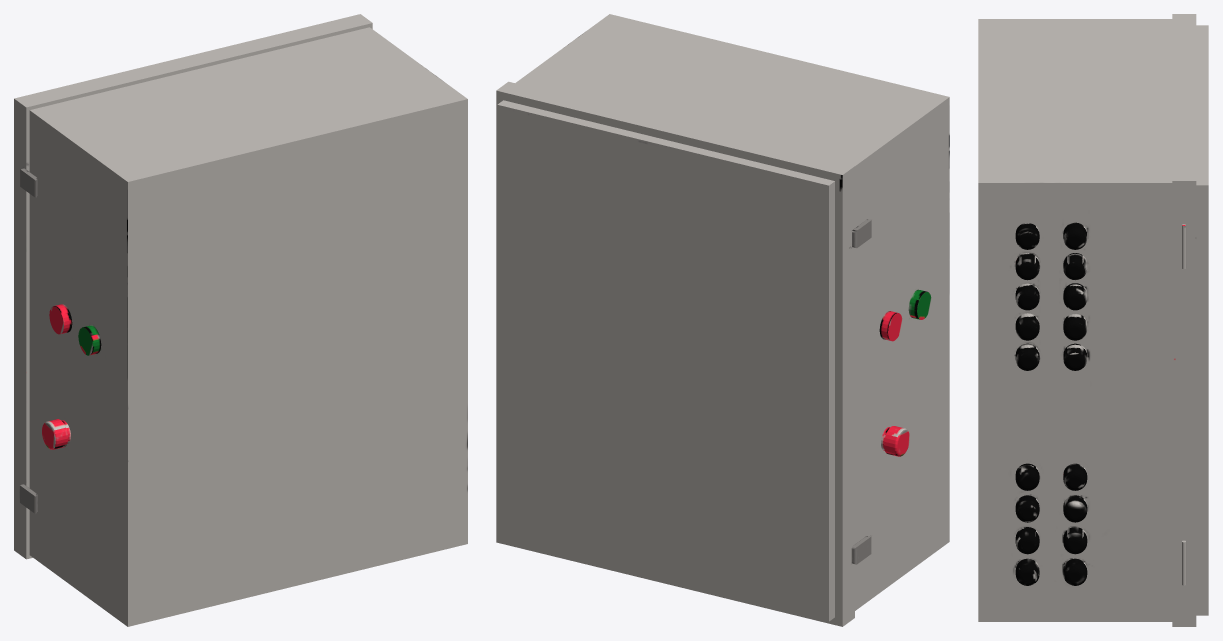
The model's file is distribution.dae.
The picture shows the model from 3 angles, left to right: view 1: azimuth 30°, elevation 25°; view 2: azimuth 150°, elevation 25°; view 3: azimuth 270°, elevation 25°; orthographic projection.
Parts seen in each view (by area): view 1: distribution_box_v1; view 2: distribution_box_v1; view 3: distribution_box_v1.
Boxes of the visible parts, x1,y1,x2,y2 form: distribution_box_v1: (14, 14, 467, 626); distribution_box_v1: (496, 14, 949, 626); distribution_box_v1: (978, 14, 1208, 626).
Bounding box in the file's own units: 0.4464 × 0.2413 × 0.516.
Materials: 1 (1 with a texture image).
